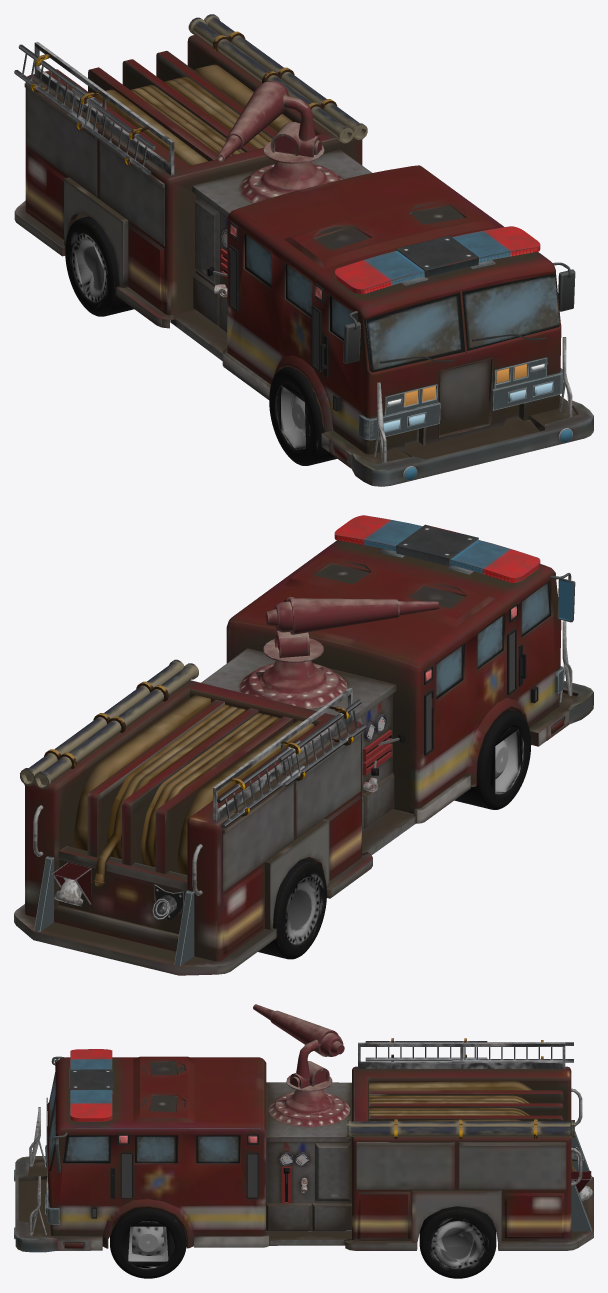
Rendered from fire.glb.
3 renders of one model, top to bottom at view 1: azimuth 30°, elevation 25°; view 2: azimuth 150°, elevation 25°; view 3: azimuth 270°, elevation 25°, orthographic. The views are drawn at different scales.
Visible parts, largest first — view 1: kit0, kit1, far; view 2: kit0, kit1, far; view 3: kit0, far, kit1.
Part boxes in pixels (x1,y1,x2,y2): kit0: (14, 14, 593, 486); kit1: (14, 17, 593, 480); far: (24, 30, 592, 469); kit0: (14, 515, 593, 975); kit1: (15, 515, 593, 975); far: (21, 524, 592, 966); kit0: (14, 1004, 593, 1278); far: (15, 1032, 592, 1268); kit1: (14, 1013, 593, 1274).
Bounding box in the file's own units: 3.26 × 3.67 × 9.4.
Materials: 1 (1 with a texture image).
